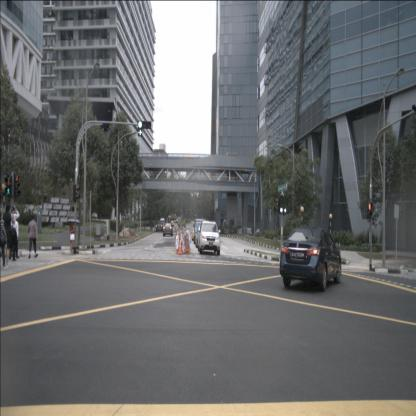barrier: (176, 233, 184, 254), (184, 232, 191, 254)
cone: (178, 238, 183, 254)
